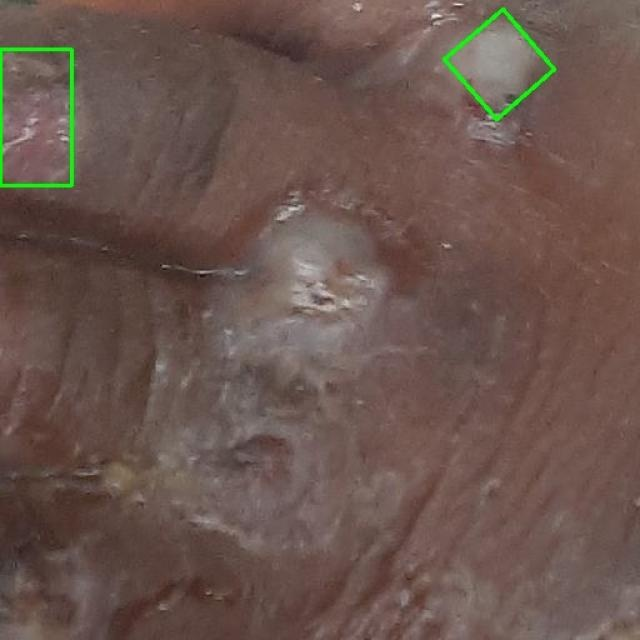Eczema: (445, 9, 554, 119), (0, 49, 71, 185)
